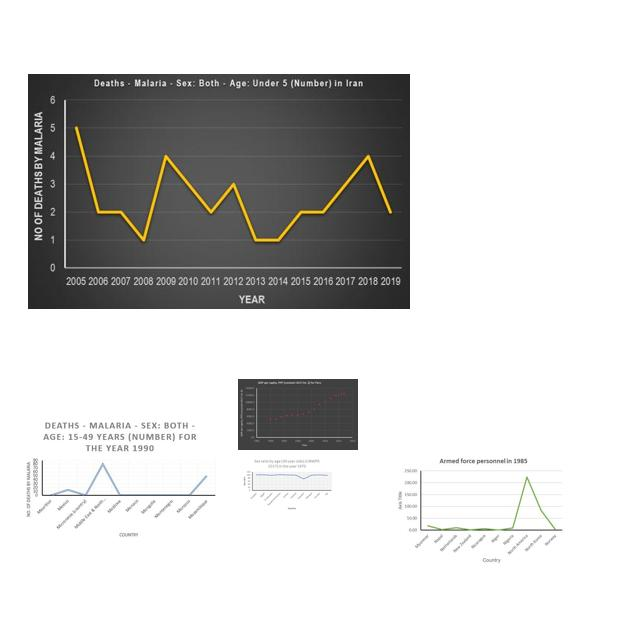Graph: (28, 74, 410, 309), (20, 416, 220, 543), (393, 454, 565, 566), (238, 379, 358, 450), (241, 458, 333, 511)
